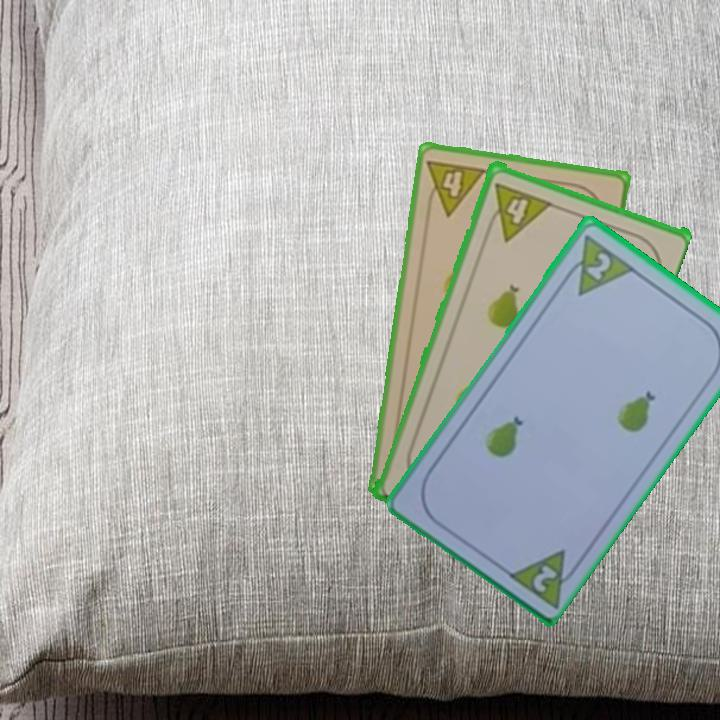2p: (558, 230, 637, 298), (529, 560, 561, 595)
4p: (481, 178, 553, 243), (422, 155, 489, 219)
